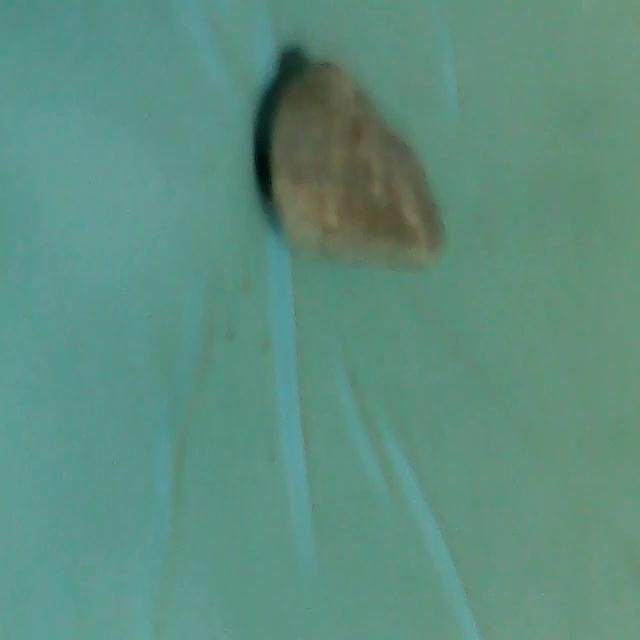rock: (254, 56, 460, 284)
